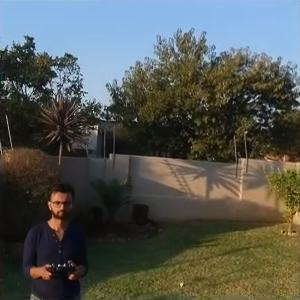follow: (17, 181, 92, 299)
